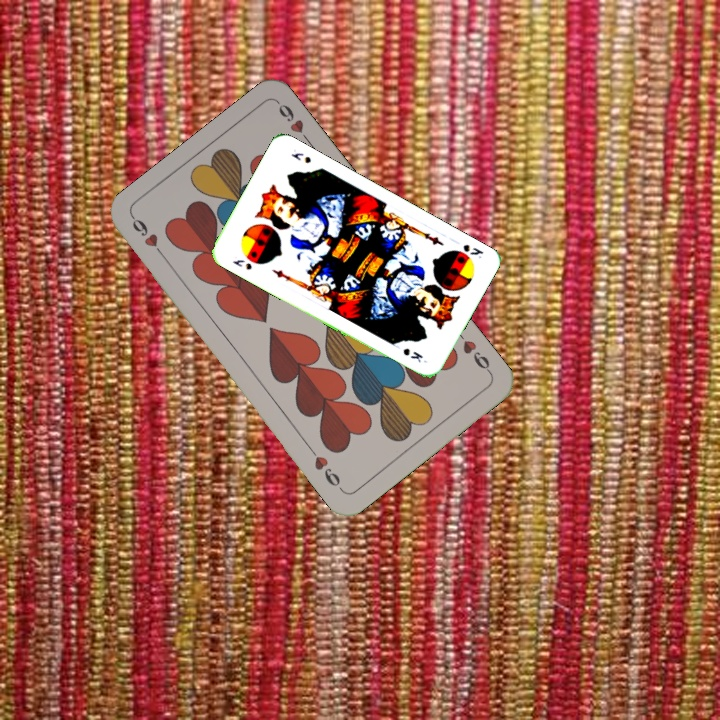H9: (453, 327, 495, 377), (128, 213, 170, 263)
SK: (459, 240, 486, 261), (228, 255, 255, 273)
